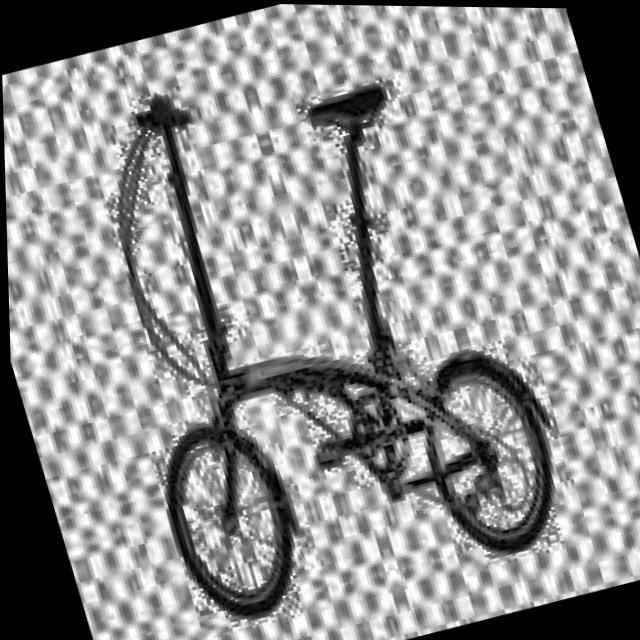bike: (15, 21, 586, 640)
